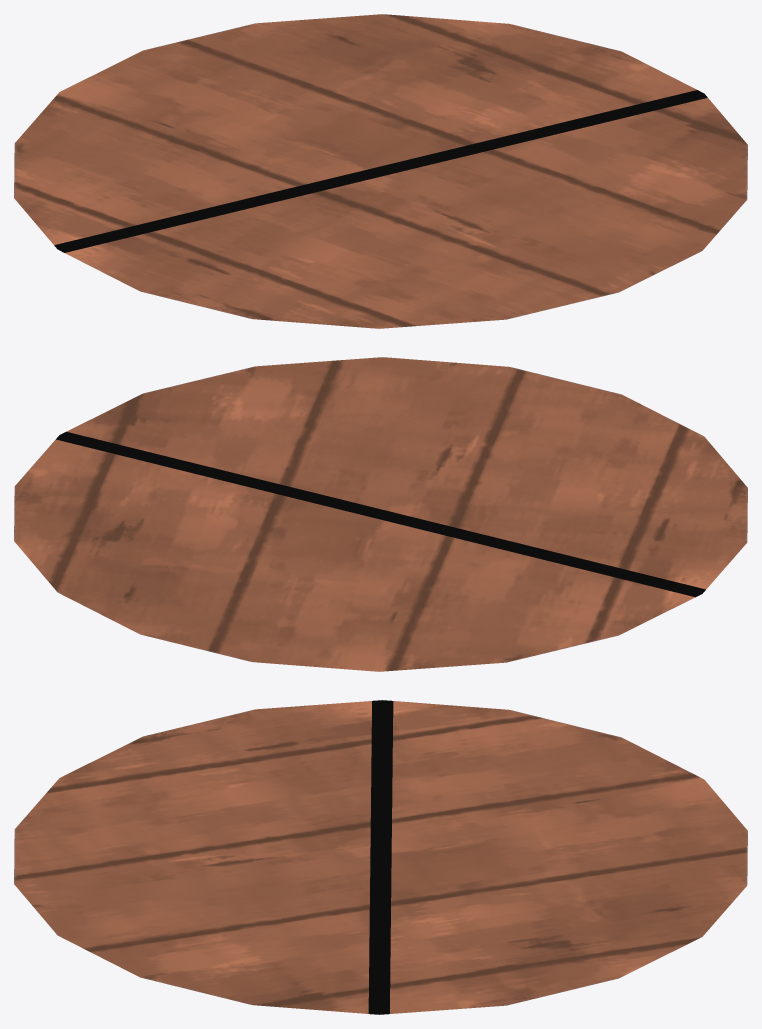
File: Tower bovenkant update .fbx
The picture shows the model from 3 angles, top to bottom: view 1: azimuth 30°, elevation 25°; view 2: azimuth 150°, elevation 25°; view 3: azimuth 270°, elevation 25°; orthographic projection.
Visible parts, largest first — view 1: Cylinder.002, Cylinder.003; view 2: Cylinder.002, Cylinder.003; view 3: Cylinder.002, Cylinder.003.
Boxes of the visible parts, x1,y1,x2,y2 form: Cylinder.002: (58, 93, 747, 328); Cylinder.003: (14, 14, 703, 249); Cylinder.002: (59, 357, 747, 593); Cylinder.003: (14, 435, 702, 671); Cylinder.002: (14, 700, 382, 1014); Cylinder.003: (379, 700, 747, 1014).
Bounding box in the file's own units: 615 × 9.54e-05 × 607.
